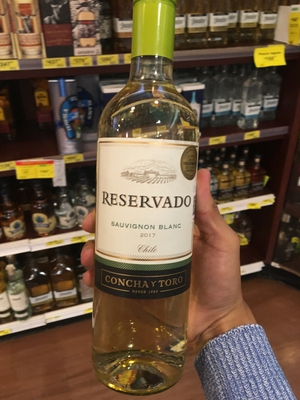reservado sauvignon blanc: (88, 30, 202, 400)
